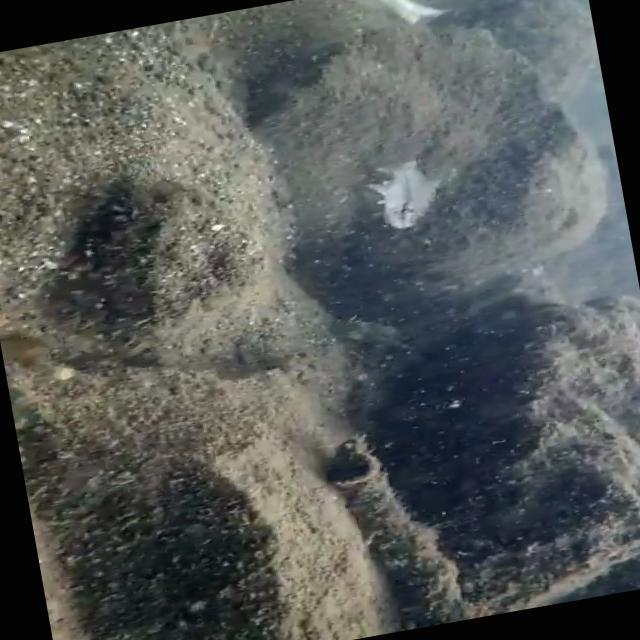Cakil Baligi: (362, 131, 452, 236)
